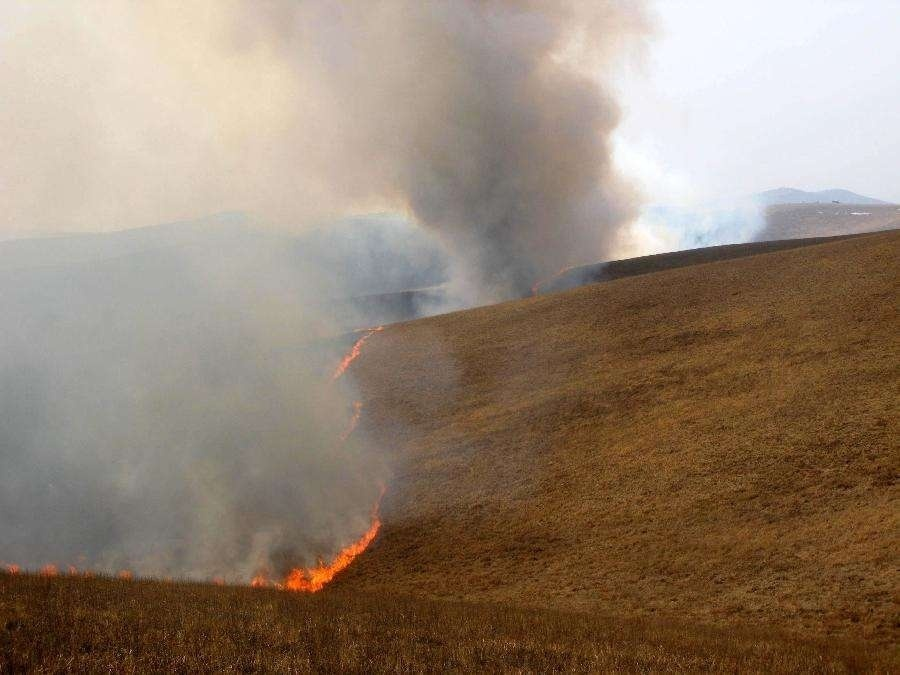fire: (4, 525, 397, 599), (251, 499, 389, 597), (324, 318, 380, 438)
